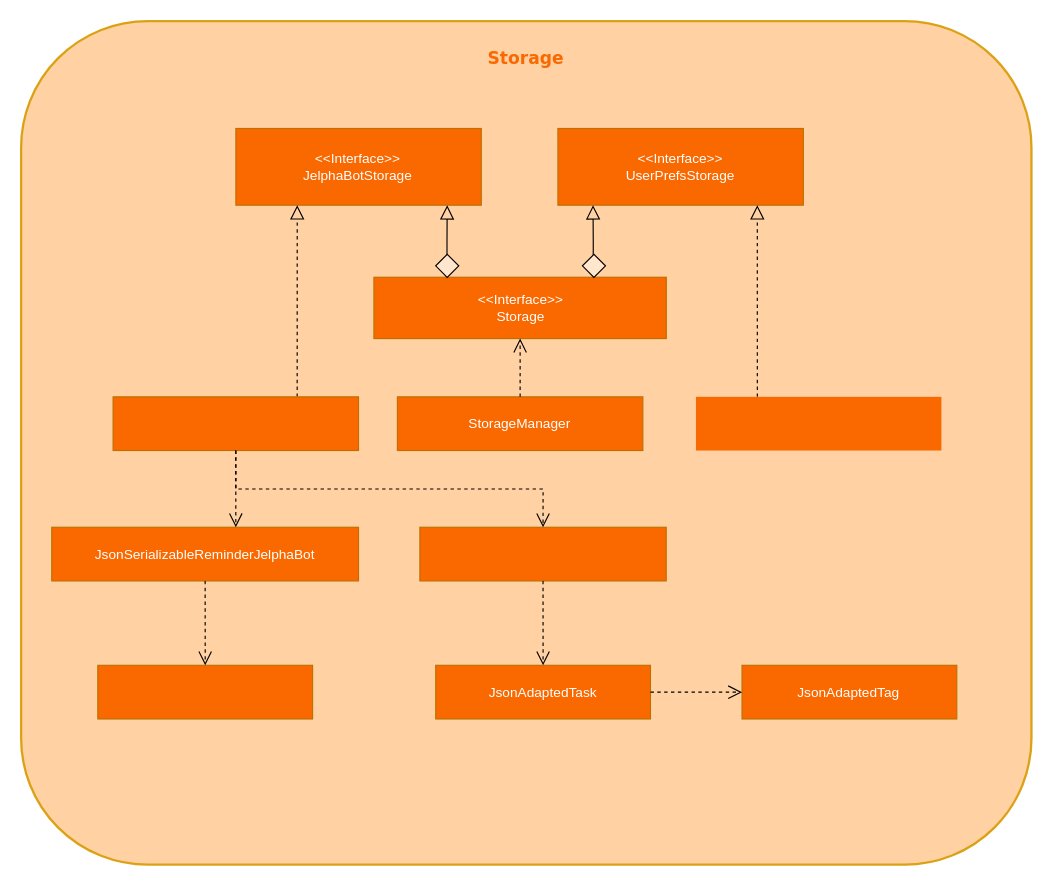
Some shapes in this 1052 by 885 pixel diagram are drawn without their labels. Here are the shapes that lost their labels. From the top down, the centre of each, then its label:
pixel 235 423: JsonJelphaBotStorage
pixel 818 423: JsonUserPrefsStorage
pixel 542 553: JsonSerializableJelphaBot
pixel 205 691: JsonAdaptedReminder
